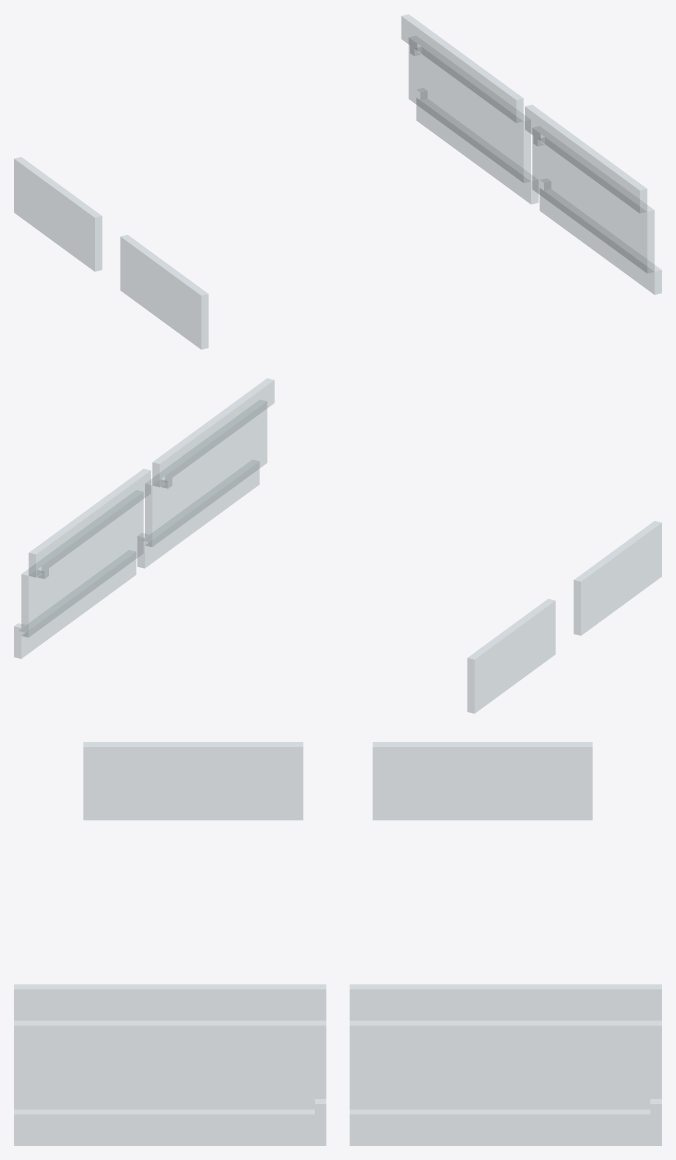
File: light_tactical_vehicle_windscreen.glb
The picture shows the model from 3 angles, top to bottom: view 1: azimuth 30°, elevation 25°; view 2: azimuth 150°, elevation 25°; view 3: azimuth 270°, elevation 25°; orthographic projection. The views are drawn at different scales.
Visible parts, largest first — view 1: body:compound; view 2: body:compound; view 3: body:compound.
Boxes of the visible parts, box(x1,y1,x2,y2) form: body:compound: box(14, 14, 661, 349); body:compound: box(14, 378, 661, 713); body:compound: box(14, 742, 661, 1145).
Size of the model in its own units: 1.84 by 0.4375 by 1.75.
